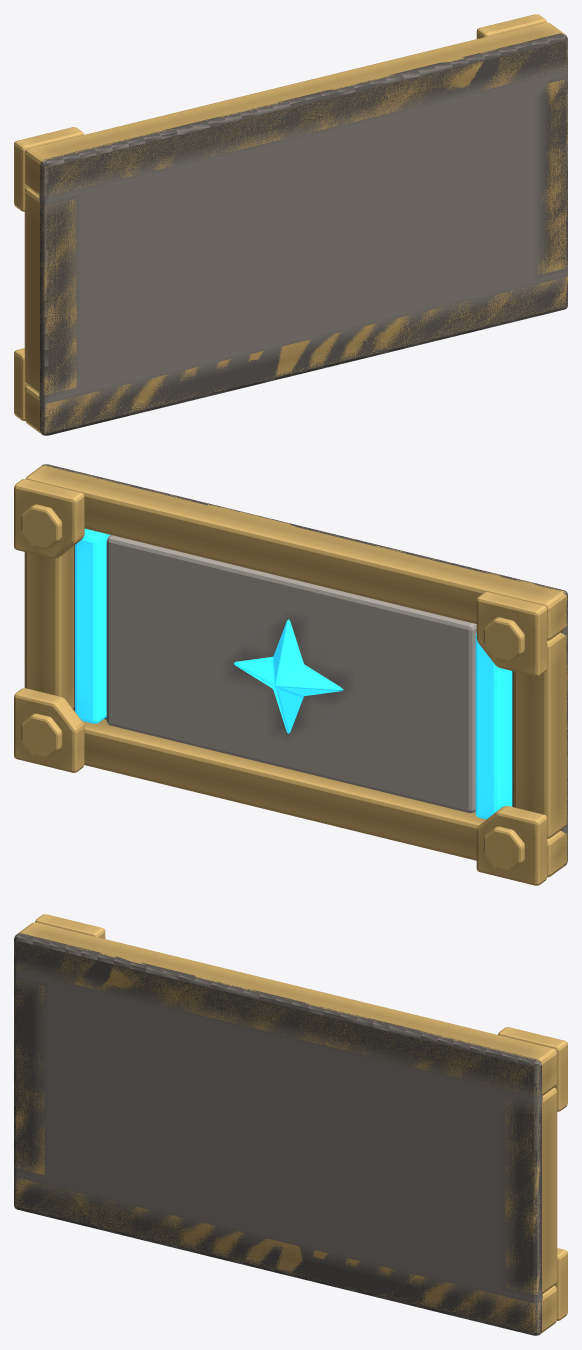
The model's file is board_push_1.glb.
3 renders of one model, top to bottom at view 1: azimuth 30°, elevation 25°; view 2: azimuth 150°, elevation 25°; view 3: azimuth 330°, elevation 25°, orthographic.
Visible parts, largest first — view 1: Back, FrameT, FrameB, FrameL, FrameR, Bolt1, Bolt3, Bolt0; view 2: Panel, FrameT, FrameB, FrameL, FrameR, Bar1, Bar0, Gem, Bolt1, Bolt2, Bolt3, Bolt0 (+5 smaller); view 3: Back, FrameT, FrameB, FrameR, FrameL, Bolt0, Bolt2, Bolt1.
Part boxes in pixels (left/top/right/bottom): Back: left=39, top=33, right=567, bottom=435; FrameT: left=24, top=22, right=567, bottom=196; FrameB: left=24, top=276, right=567, bottom=434; FrameL: left=24, top=187, right=76, bottom=394; FrameR: left=537, top=78, right=567, bottom=274; Bolt1: left=14, top=127, right=83, bottom=211; Bolt3: left=14, top=348, right=27, bottom=420; Bolt0: left=476, top=14, right=546, bottom=38; Panel: left=106, top=535, right=476, bottom=813; FrameT: left=25, top=465, right=567, bottom=640; FrameB: left=82, top=719, right=567, bottom=877; FrameL: left=513, top=632, right=567, bottom=838; FrameR: left=24, top=546, right=74, bottom=708; Bar1: left=75, top=528, right=110, bottom=723; Bar0: left=475, top=633, right=512, bottom=819; Gem: left=234, top=619, right=343, bottom=733; Bolt1: left=476, top=592, right=547, bottom=676; Bolt2: left=14, top=688, right=84, bottom=772; Bolt3: left=476, top=806, right=547, bottom=885; Bolt0: left=14, top=479, right=84, bottom=558; Back: left=14, top=933, right=542, bottom=1335; FrameT: left=14, top=922, right=557, bottom=1095; FrameB: left=14, top=1176, right=557, bottom=1334; FrameR: left=505, top=1087, right=557, bottom=1294; FrameL: left=14, top=979, right=44, bottom=1175; Bolt0: left=498, top=1027, right=567, bottom=1111; Bolt2: left=554, top=1248, right=567, bottom=1320; Bolt1: left=35, top=914, right=105, bottom=938.
Bounding box in the file's own units: 1 × 0.5 × 0.12.
